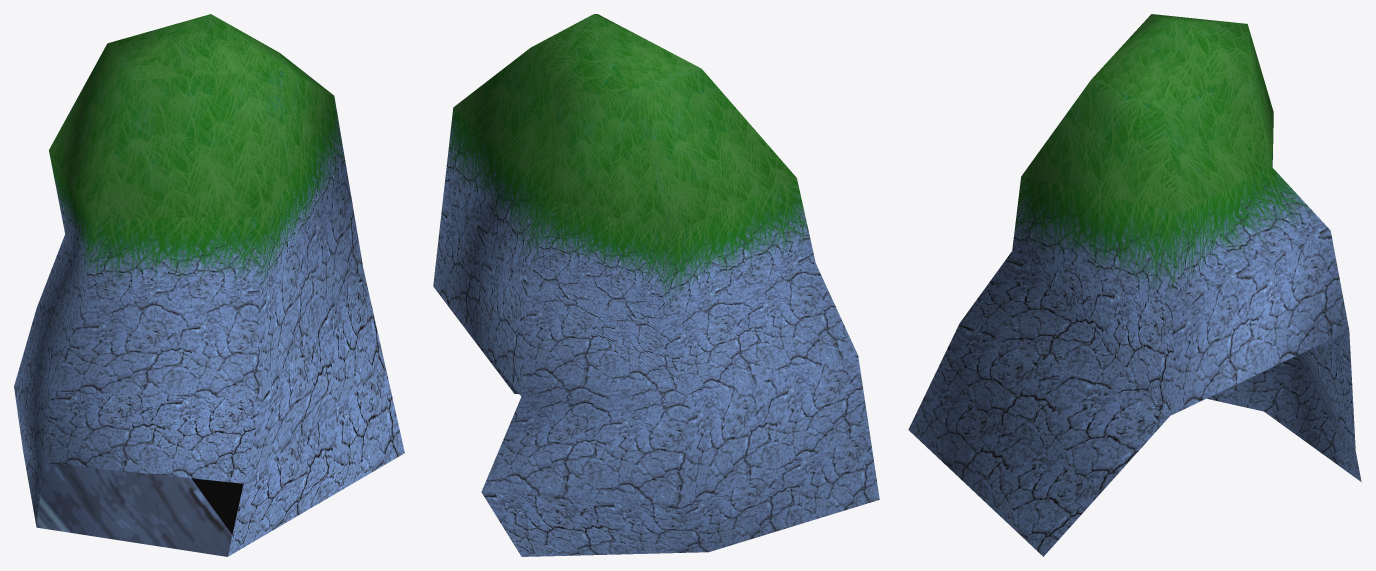
The model's file is track_chinese_env_terrain_11.FBX.
3 renders of one model, left to right at view 1: azimuth 30°, elevation 25°; view 2: azimuth 150°, elevation 25°; view 3: azimuth 270°, elevation 25°, orthographic. The views are drawn at different scales.
Visible parts, largest first — view 1: track_chinese_env_terrain_11; view 2: track_chinese_env_terrain_11; view 3: track_chinese_env_terrain_11.
Part boxes in pixels (box(x1,y1,x2,y2)): track_chinese_env_terrain_11: box(14, 14, 404, 556); track_chinese_env_terrain_11: box(433, 14, 879, 556); track_chinese_env_terrain_11: box(908, 14, 1361, 556).
Size of the model in its own units: 160 by 179 by 156.
